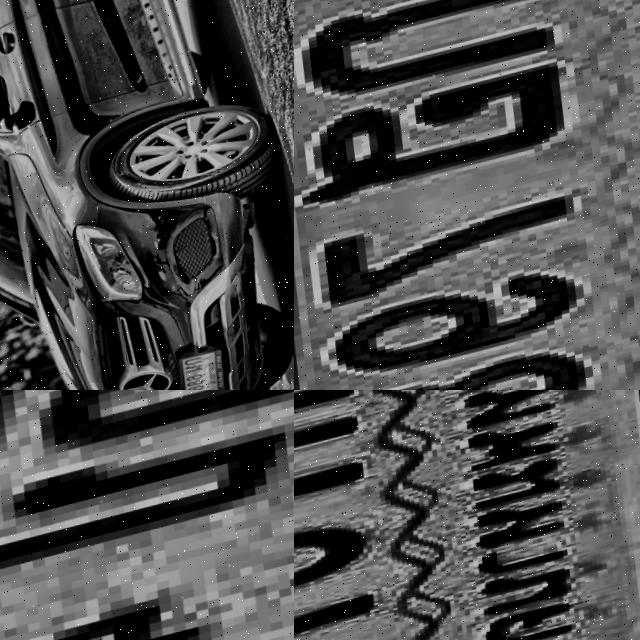license-plate: (294, 0, 640, 390), (294, 390, 640, 640), (0, 390, 294, 640), (178, 354, 238, 390)
